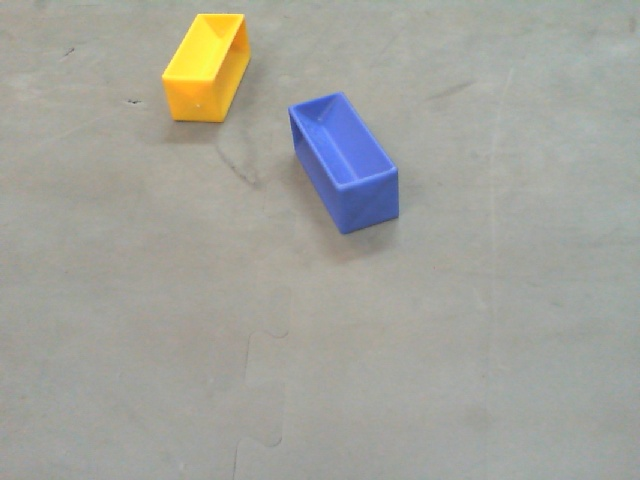BlueSample: (285, 92, 403, 238)
YellowSample: (160, 11, 251, 125)
